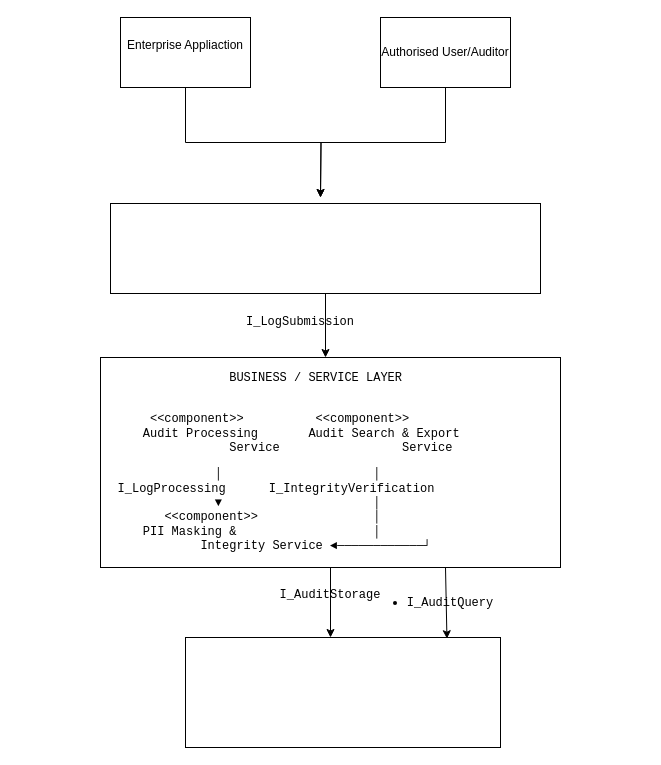
Some shapes in this 661 by 765 pixel diagram are drawn without their labels. The box of each missing label's shape, as (x1, y1, x2, y2) in pixels:
DATA LAYER <<component>> Audit Repository: (184, 636, 500, 748)
PRESENTATION LAYER <<component>> Audit Log Interface: (110, 202, 540, 294)
